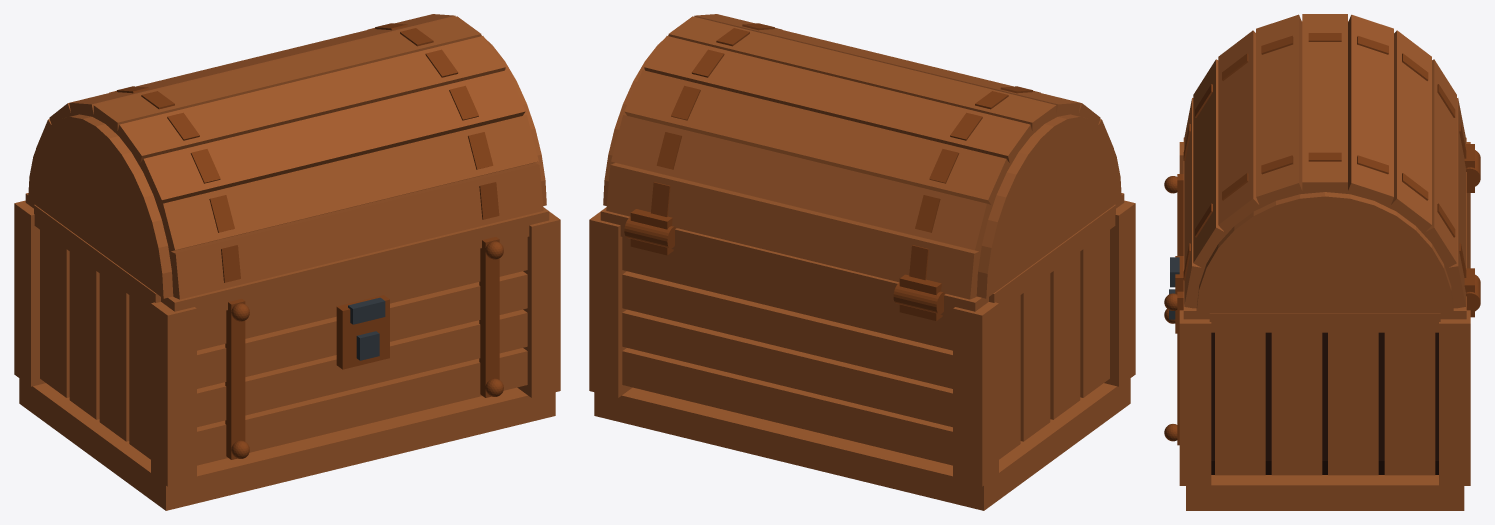
File: treasure_chest.glb
The picture shows the model from 3 angles, left to right: view 1: azimuth 30°, elevation 25°; view 2: azimuth 150°, elevation 25°; view 3: azimuth 270°, elevation 25°; orthographic projection. The views are drawn at different scales.
Parts seen in each view (by area): view 1: TreasureChest_Base_Frame, TreasureChest_Lid_Wood_Slat_9, TreasureChest_Lid_Wood_Slat_8, TreasureChest_Lid_Wood_Slat_7, TreasureChest_Lid_Left_EndCap, TreasureChest_Lid_Wood_Slat_6, TreasureChest_Front_Plank_1, TreasureChest_Front_Plank_2, TreasureChest_Front_Plank_3, TreasureChest_Front_Plank_4, TreasureChest_Lid_Wood_Slat_5, TreasureChest_Corner_Post_L_F (+21 smaller); view 2: TreasureChest_Base_Frame, TreasureChest_Lid_Wood_Slat_2, TreasureChest_Lid_Wood_Slat_3, TreasureChest_Lid_Wood_Slat_1, TreasureChest_Lid_Left_EndCap, TreasureChest_Lid_Wood_Slat_4, TreasureChest_Back_Plank_2, TreasureChest_Back_Plank_3, TreasureChest_Back_Plank_1, TreasureChest_Back_Plank_4, TreasureChest_Lid_Wood_Slat_5, TreasureChest_Corner_Post_L_B (+18 smaller); view 3: TreasureChest_Lid_Right_EndCap, TreasureChest_Base_Frame, TreasureChest_Lid_Wood_Slat_6, TreasureChest_Lid_Wood_Slat_4, TreasureChest_Lid_Wood_Slat_5, TreasureChest_Right_SidePlank_2, TreasureChest_Right_SidePlank_4, TreasureChest_Right_SidePlank_1, TreasureChest_Right_SidePlank_3, TreasureChest_Lid_Wood_Slat_7, TreasureChest_Lid_Wood_Slat_3, TreasureChest_Corner_Post_R_F (+14 smaller).
Boxes of the visible parts, bbox=[...] form: TreasureChest_Base_Frame: bbox=[19, 378, 555, 510]; TreasureChest_Lid_Wood_Slat_9: bbox=[169, 163, 543, 299]; TreasureChest_Lid_Wood_Slat_8: bbox=[157, 115, 538, 251]; TreasureChest_Lid_Wood_Slat_7: bbox=[139, 70, 525, 206]; TreasureChest_Lid_Left_EndCap: bbox=[28, 114, 173, 298]; TreasureChest_Lid_Wood_Slat_6: bbox=[117, 36, 505, 165]; TreasureChest_Front_Plank_1: bbox=[197, 348, 527, 465]; TreasureChest_Front_Plank_2: bbox=[197, 309, 527, 427]; TreasureChest_Front_Plank_3: bbox=[197, 271, 527, 388]; TreasureChest_Front_Plank_4: bbox=[197, 237, 527, 350]; TreasureChest_Lid_Wood_Slat_5: bbox=[93, 16, 481, 134]; TreasureChest_Corner_Post_L_F: bbox=[151, 302, 196, 486]; TreasureChest_Base_Frame: bbox=[594, 378, 1130, 510]; TreasureChest_Lid_Wood_Slat_2: bbox=[611, 115, 992, 251]; TreasureChest_Lid_Wood_Slat_3: bbox=[624, 70, 1010, 205]; TreasureChest_Lid_Wood_Slat_1: bbox=[606, 163, 980, 299]; TreasureChest_Lid_Left_EndCap: bbox=[976, 114, 1121, 298]; TreasureChest_Lid_Wood_Slat_4: bbox=[644, 36, 1032, 164]; TreasureChest_Back_Plank_2: bbox=[622, 309, 952, 427]; TreasureChest_Back_Plank_3: bbox=[622, 271, 952, 388]; TreasureChest_Back_Plank_1: bbox=[622, 348, 952, 465]; TreasureChest_Back_Plank_4: bbox=[622, 237, 952, 350]; TreasureChest_Lid_Wood_Slat_5: bbox=[668, 16, 1056, 133]; TreasureChest_Corner_Post_L_B: bbox=[953, 302, 998, 486]; TreasureChest_Lid_Right_EndCap: bbox=[1196, 192, 1453, 312]; TreasureChest_Base_Frame: bbox=[1186, 475, 1464, 510]; TreasureChest_Lid_Wood_Slat_6: bbox=[1256, 14, 1302, 207]; TreasureChest_Lid_Wood_Slat_4: bbox=[1347, 14, 1393, 207]; TreasureChest_Lid_Wood_Slat_5: bbox=[1302, 14, 1347, 193]; TreasureChest_Right_SidePlank_2: bbox=[1271, 332, 1322, 475]; TreasureChest_Right_SidePlank_4: bbox=[1384, 332, 1435, 475]; TreasureChest_Right_SidePlank_1: bbox=[1215, 332, 1265, 475]; TreasureChest_Right_SidePlank_3: bbox=[1328, 332, 1378, 475]; TreasureChest_Lid_Wood_Slat_7: bbox=[1218, 30, 1260, 233]; TreasureChest_Lid_Wood_Slat_3: bbox=[1389, 30, 1431, 233]; TreasureChest_Corner_Post_R_F: bbox=[1179, 310, 1211, 485].
Bounding box in the file's own units: 3.65 × 3.04 × 2.68.
